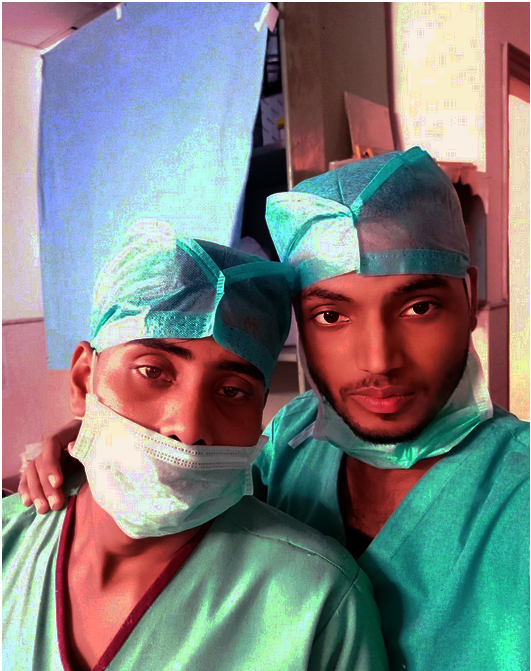mask_weared_incorrect: (78, 216, 294, 543), (270, 151, 477, 449)
